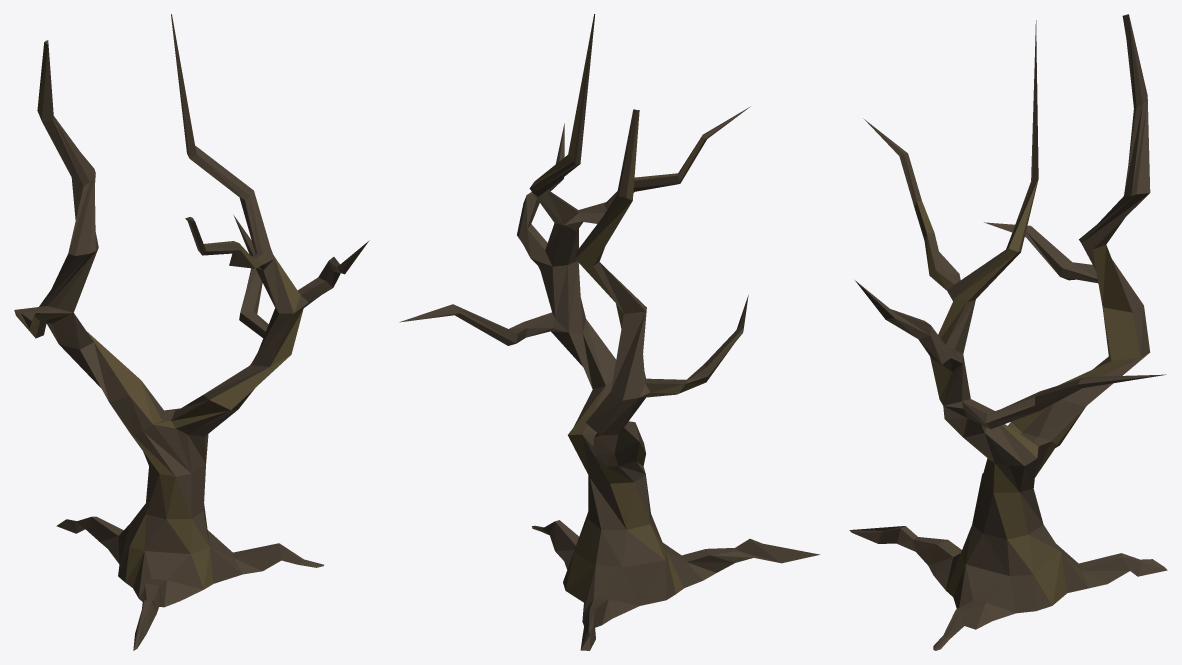
3 renders of one model, left to right at view 1: azimuth 30°, elevation 25°; view 2: azimuth 150°, elevation 25°; view 3: azimuth 270°, elevation 25°, orthographic. The views are drawn at different scales.
Size of the model in its own units: 258 by 510 by 254.
1 material, 1 textured.
